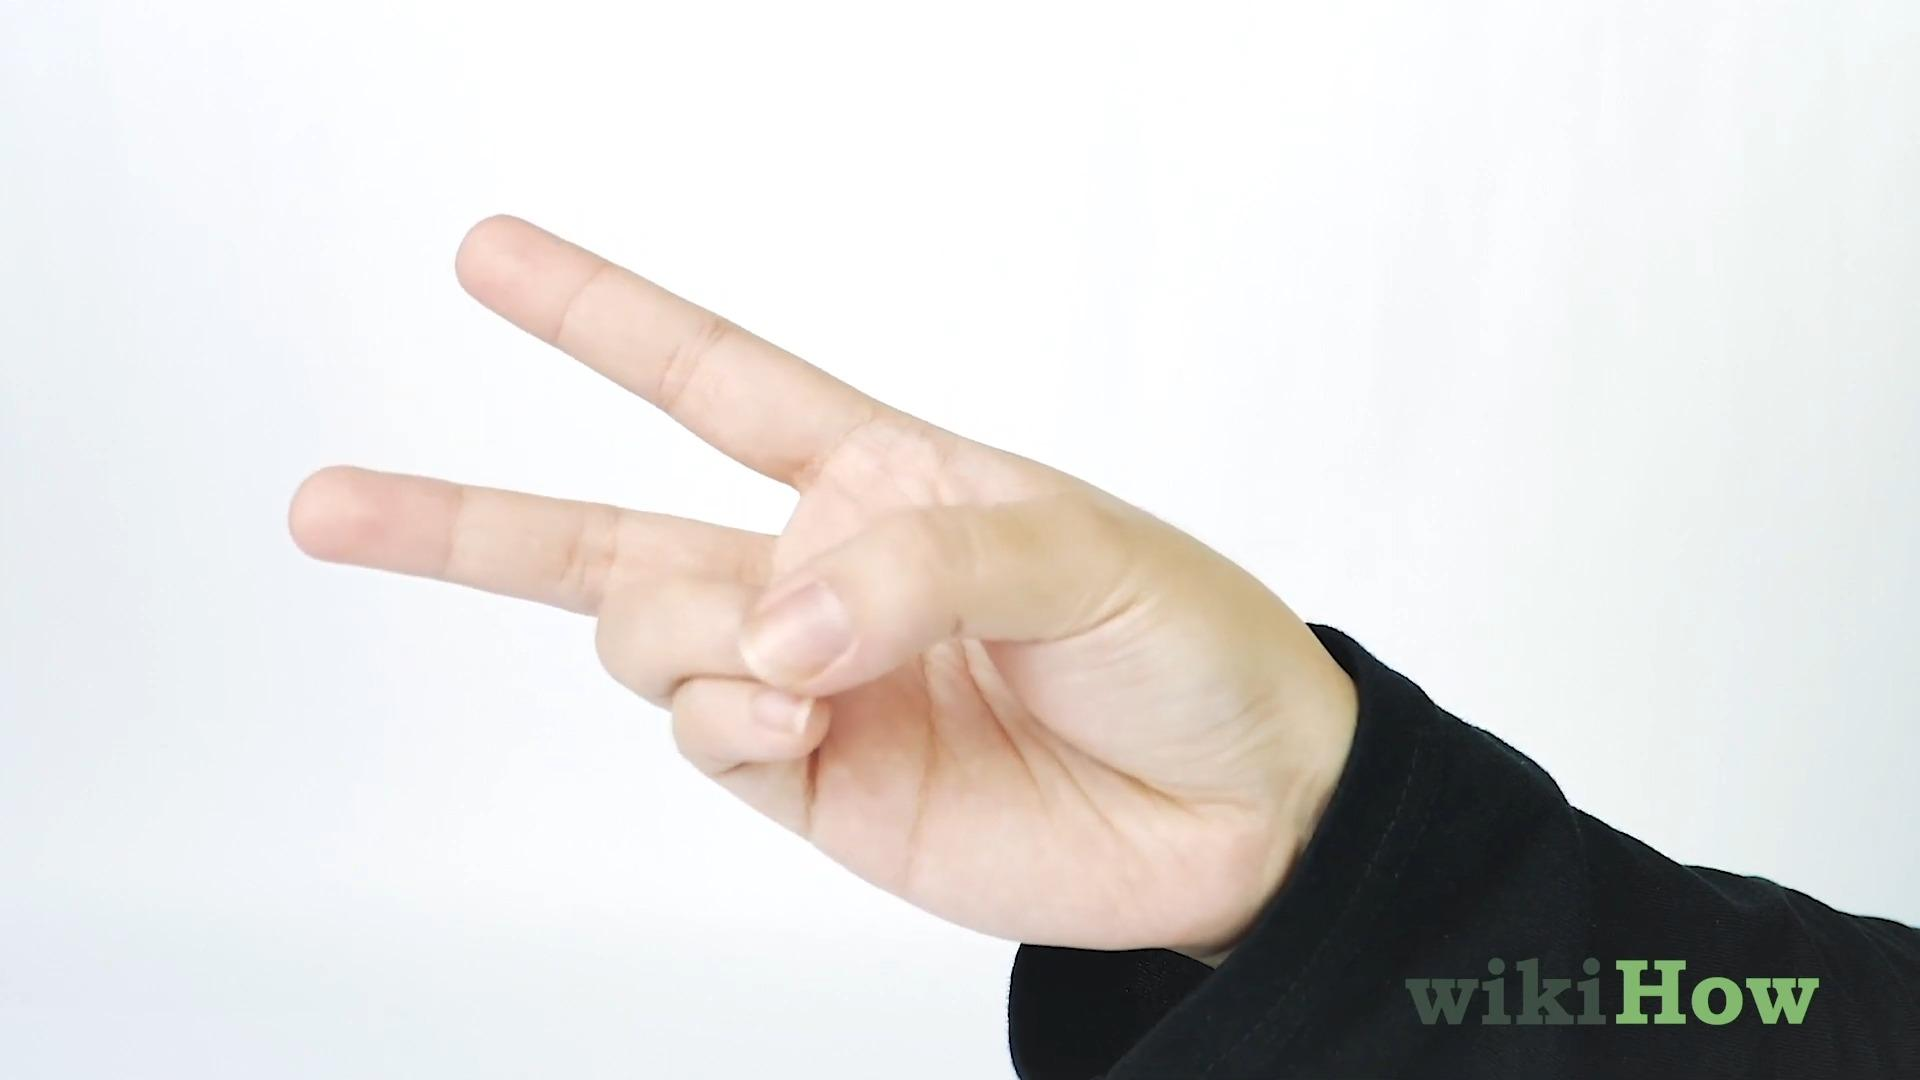Scissors: (273, 210, 1317, 963)
